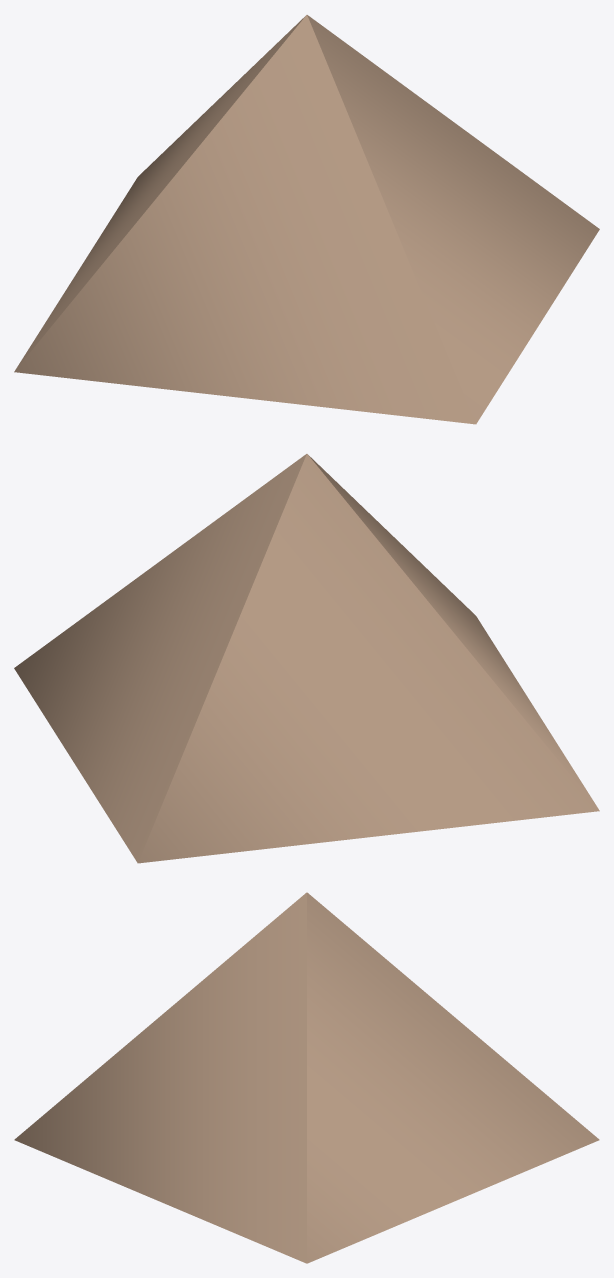
File: roof.gltf
The picture shows the model from 3 angles, top to bottom: view 1: azimuth 30°, elevation 25°; view 2: azimuth 150°, elevation 25°; view 3: azimuth 270°, elevation 25°; orthographic projection. The views are drawn at different scales.
Visible parts, largest first — view 1: Roof; view 2: Roof; view 3: Roof.
Boxes of the visible parts, x1,y1,x2,y2 form: Roof: (14, 15, 599, 424); Roof: (14, 454, 599, 863); Roof: (14, 892, 599, 1263).
Size of the model in its own units: 3 by 1.4 by 3.
